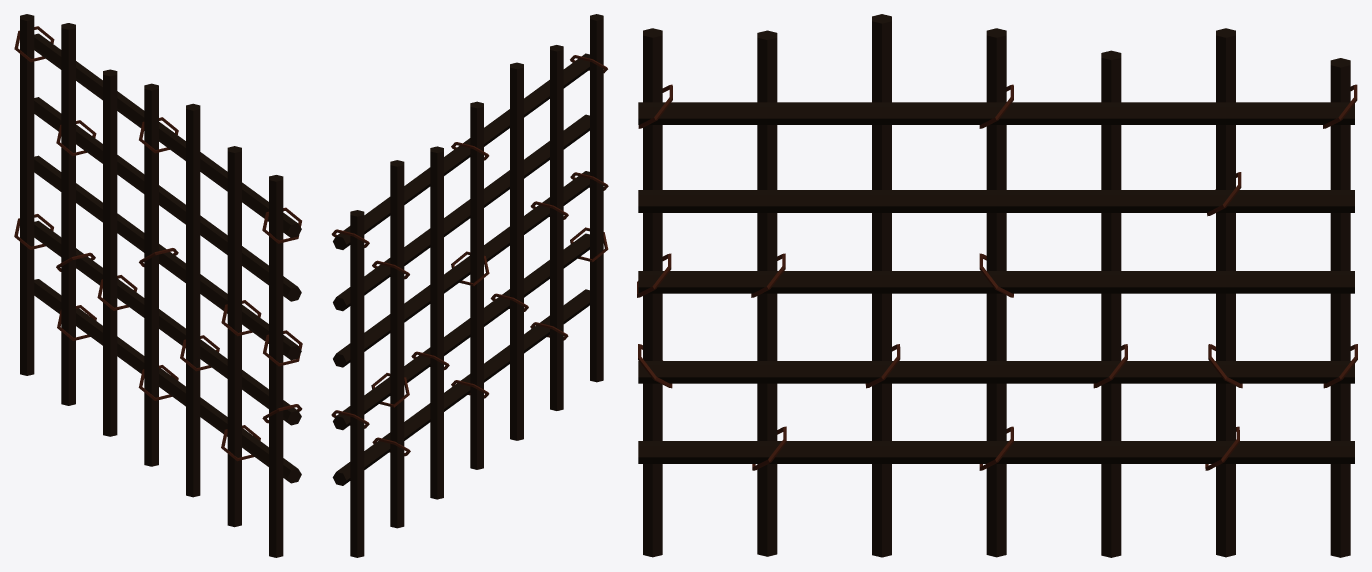
Rendered from Fence_C.obj.
The picture shows the model from 3 angles, left to right: view 1: azimuth 30°, elevation 25°; view 2: azimuth 150°, elevation 25°; view 3: azimuth 270°, elevation 25°; orthographic projection. The views are drawn at different scales.
Parts seen in each view (by area): view 1: Fence_C; view 2: Fence_C; view 3: Fence_C.
Part boxes in pixels (x1=…): Fence_C: x1=14, y1=14, x2=302, y2=557; Fence_C: x1=331, y1=14, x2=608, y2=557; Fence_C: x1=637, y1=14, x2=1357, y2=557.
Bounding box in the file's own units: 0.4388 × 4.05 × 4.95.
